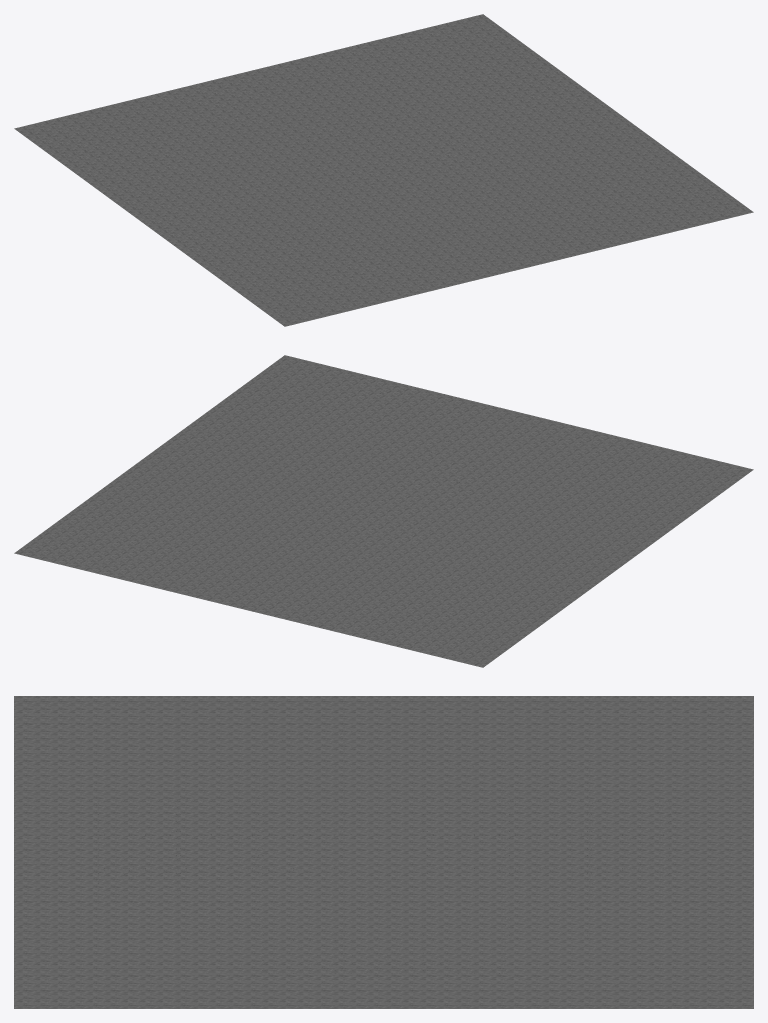
Rendered from Ground_blocks.glb.
3 renders of one model, top to bottom at view 1: azimuth 30°, elevation 25°; view 2: azimuth 150°, elevation 25°; view 3: azimuth 270°, elevation 25°, orthographic. The views are drawn at different scales.
Parts seen in each view (by area): view 1: Ground blocks; view 2: Ground blocks; view 3: Ground blocks.
Boxes of the visible parts, box(x1,y1,x2,y2) form: Ground blocks: box(14, 14, 753, 326); Ground blocks: box(14, 355, 753, 667); Ground blocks: box(14, 696, 753, 1008).
Size of the model in its own units: 720 by 19.8 by 720.
1 material, 1 textured.
